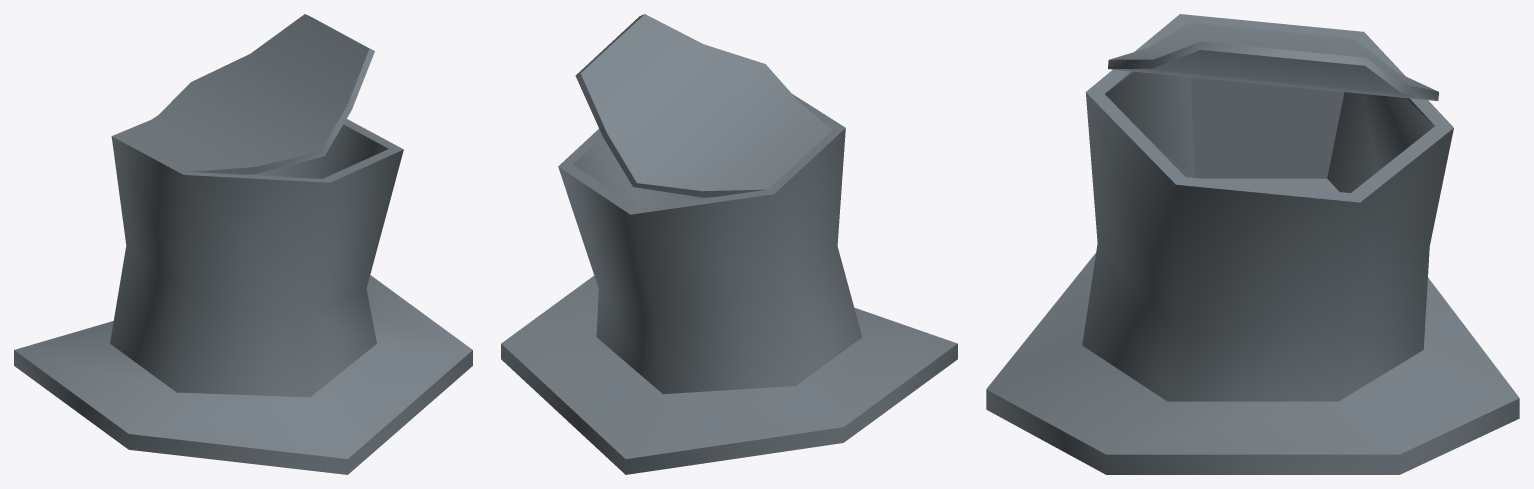
The model's file is TopHat.fbx.
3 renders of one model, left to right at view 1: azimuth 30°, elevation 25°; view 2: azimuth 150°, elevation 25°; view 3: azimuth 270°, elevation 25°, orthographic. The views are drawn at different scales.
Visible parts, largest first — view 1: Hat_Top; view 2: Hat_Top; view 3: Hat_Top.
Part boxes in pixels (x1,y1,x2,y2): Hat_Top: (14,14,472,474); Hat_Top: (501,14,957,474); Hat_Top: (986,14,1519,474).
Bounding box in the file's own units: 197 × 189 × 206.
